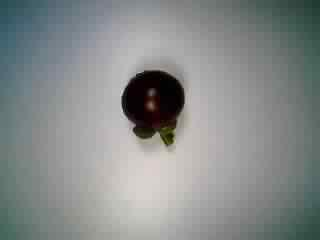mangosteen: (113, 65, 195, 150)
